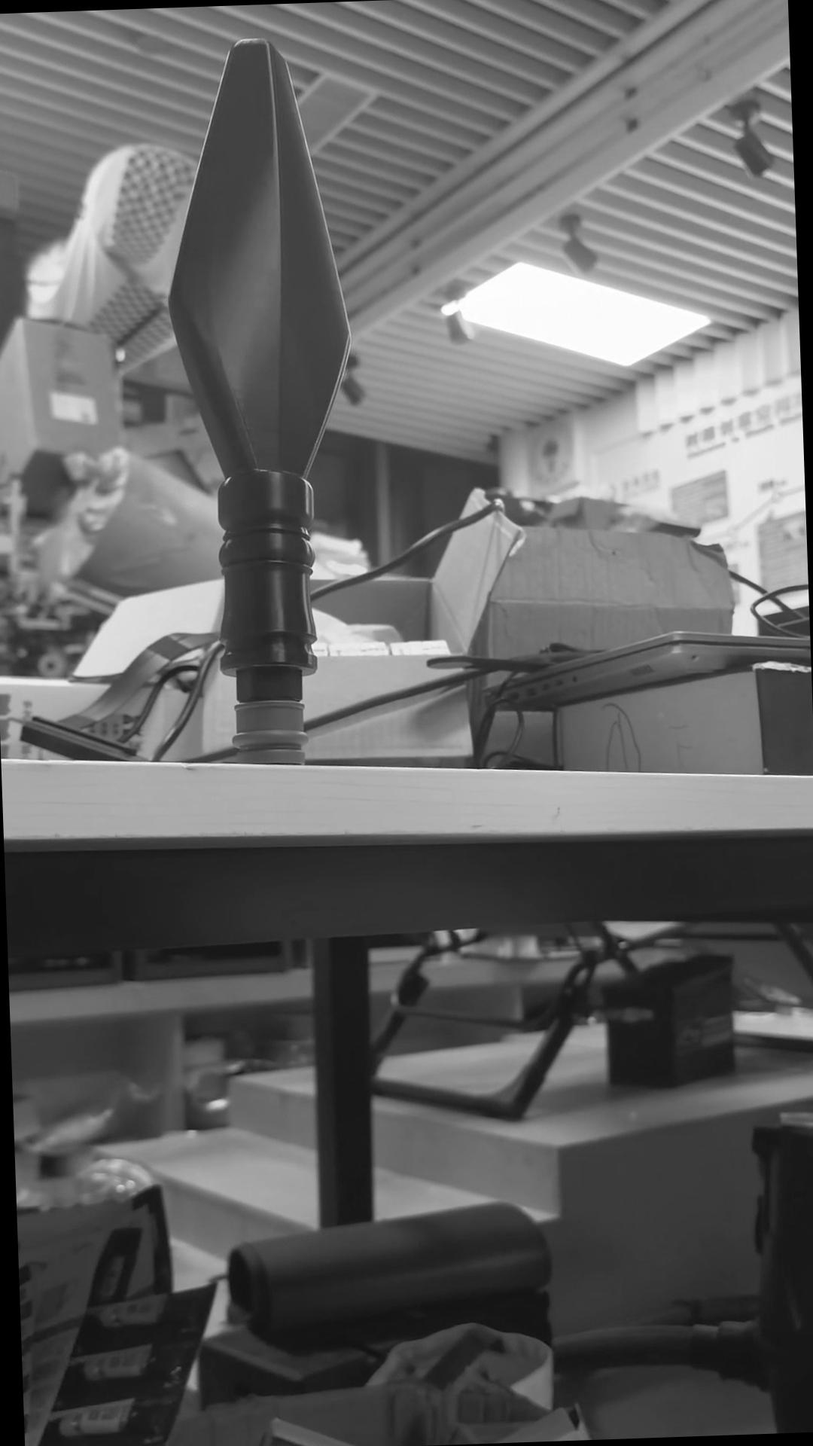base: (235, 694, 309, 764)
